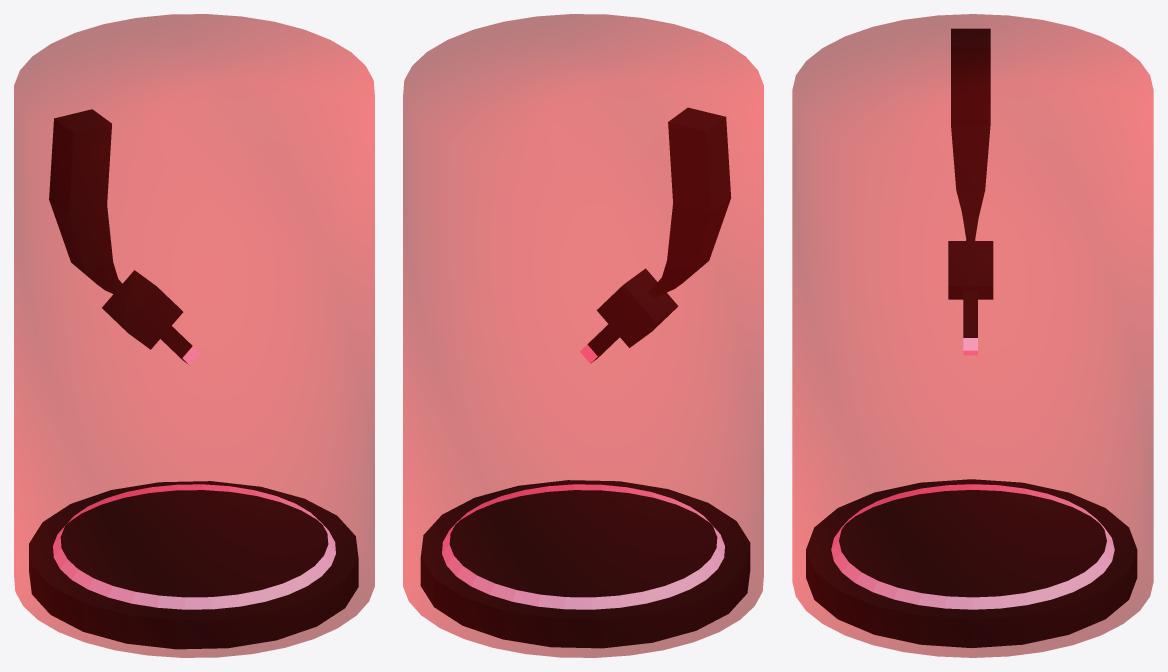
Rendered from thief.glb.
3 renders of one model, left to right at view 1: azimuth 30°, elevation 25°; view 2: azimuth 150°, elevation 25°; view 3: azimuth 270°, elevation 25°, orthographic.
Visible parts, largest first — view 1: Cylinder.001, Cylinder, Cube.004, Circle; view 2: Cylinder.001, Cylinder, Cube.004, Circle; view 3: Cylinder.001, Cylinder, Cube.004, Circle.
Boxes of the visible parts, x1,y1,x2,y2 form: Cylinder.001: [14, 14, 374, 657]; Cylinder: [29, 481, 358, 649]; Cube.004: [49, 109, 200, 365]; Circle: [53, 484, 335, 609]; Cylinder.001: [403, 14, 763, 657]; Cylinder: [420, 480, 750, 648]; Cube.004: [580, 107, 731, 363]; Circle: [442, 484, 724, 609]; Cylinder.001: [792, 14, 1153, 657]; Cylinder: [806, 479, 1137, 648]; Cube.004: [948, 28, 993, 355]; Circle: [831, 484, 1114, 609].
Bounding box in the file's own units: 1 × 1.5 × 1.
3 materials, 1 textured.
